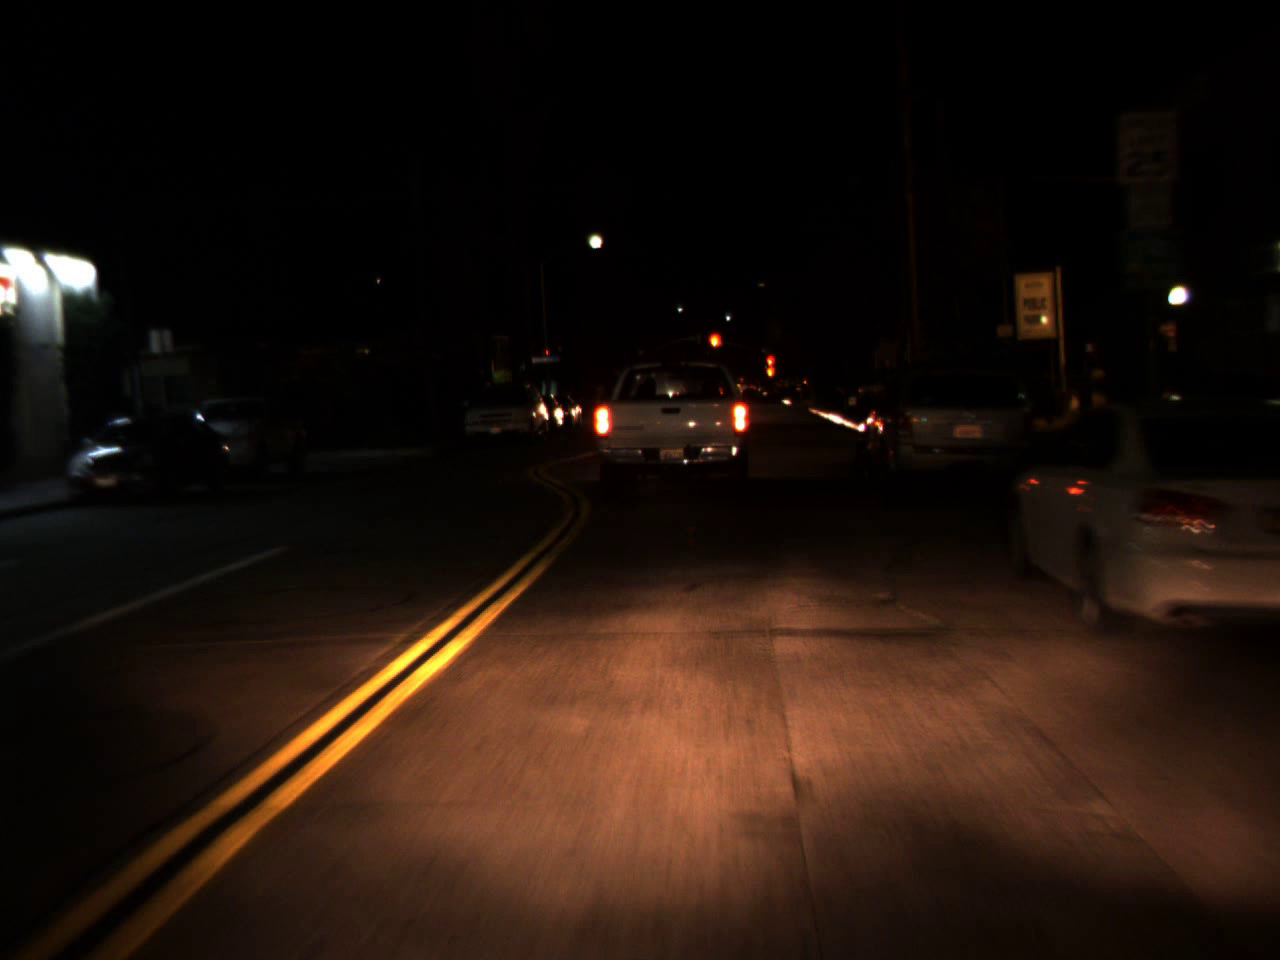stop: (708, 331, 721, 363), (765, 353, 777, 374)
